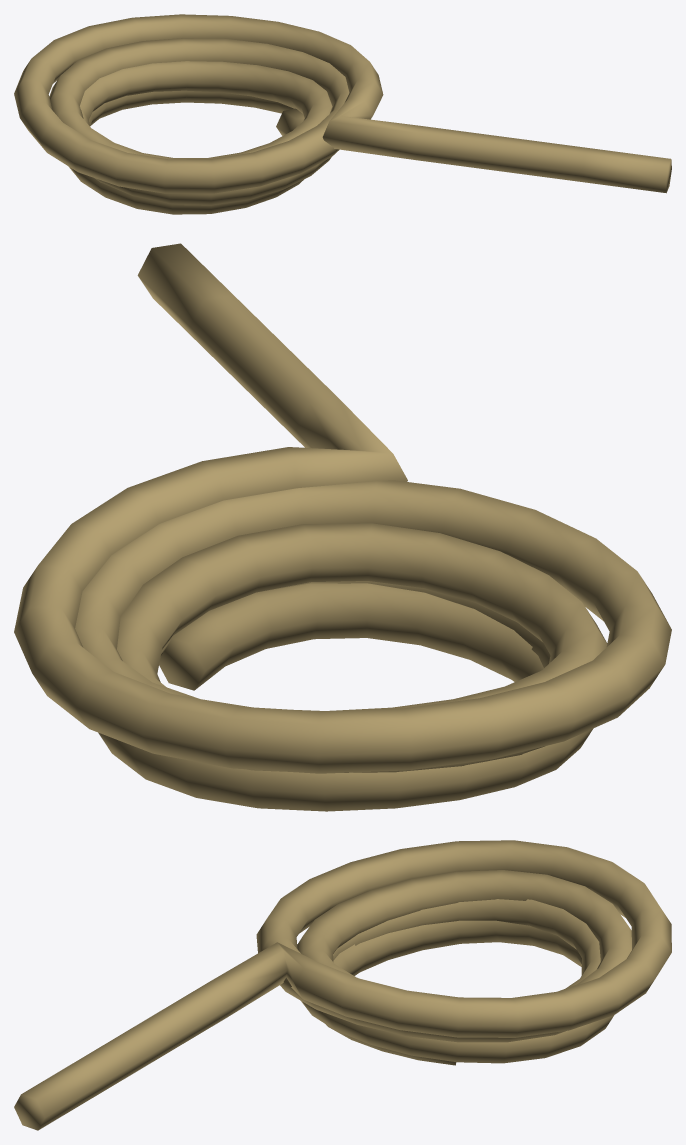
File: rope_coil.glb
The picture shows the model from 3 angles, top to bottom: view 1: azimuth 30°, elevation 25°; view 2: azimuth 150°, elevation 25°; view 3: azimuth 270°, elevation 25°; orthographic projection. The views are drawn at different scales.
Visible parts, largest first — view 1: Rope_Coil_Rope; view 2: Rope_Coil_Rope; view 3: Rope_Coil_Rope.
Part boxes in pixels (x1,y1,x2,y2): Rope_Coil_Rope: (14,14,671,214); Rope_Coil_Rope: (14,243,671,811); Rope_Coil_Rope: (14,840,671,1130).
Size of the model in its own units: 0.9639 by 0.1707 by 1.04.
